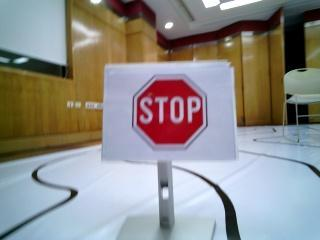stop: (122, 66, 219, 153)
